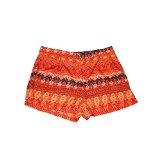C_shorts: (21, 42, 141, 127)
